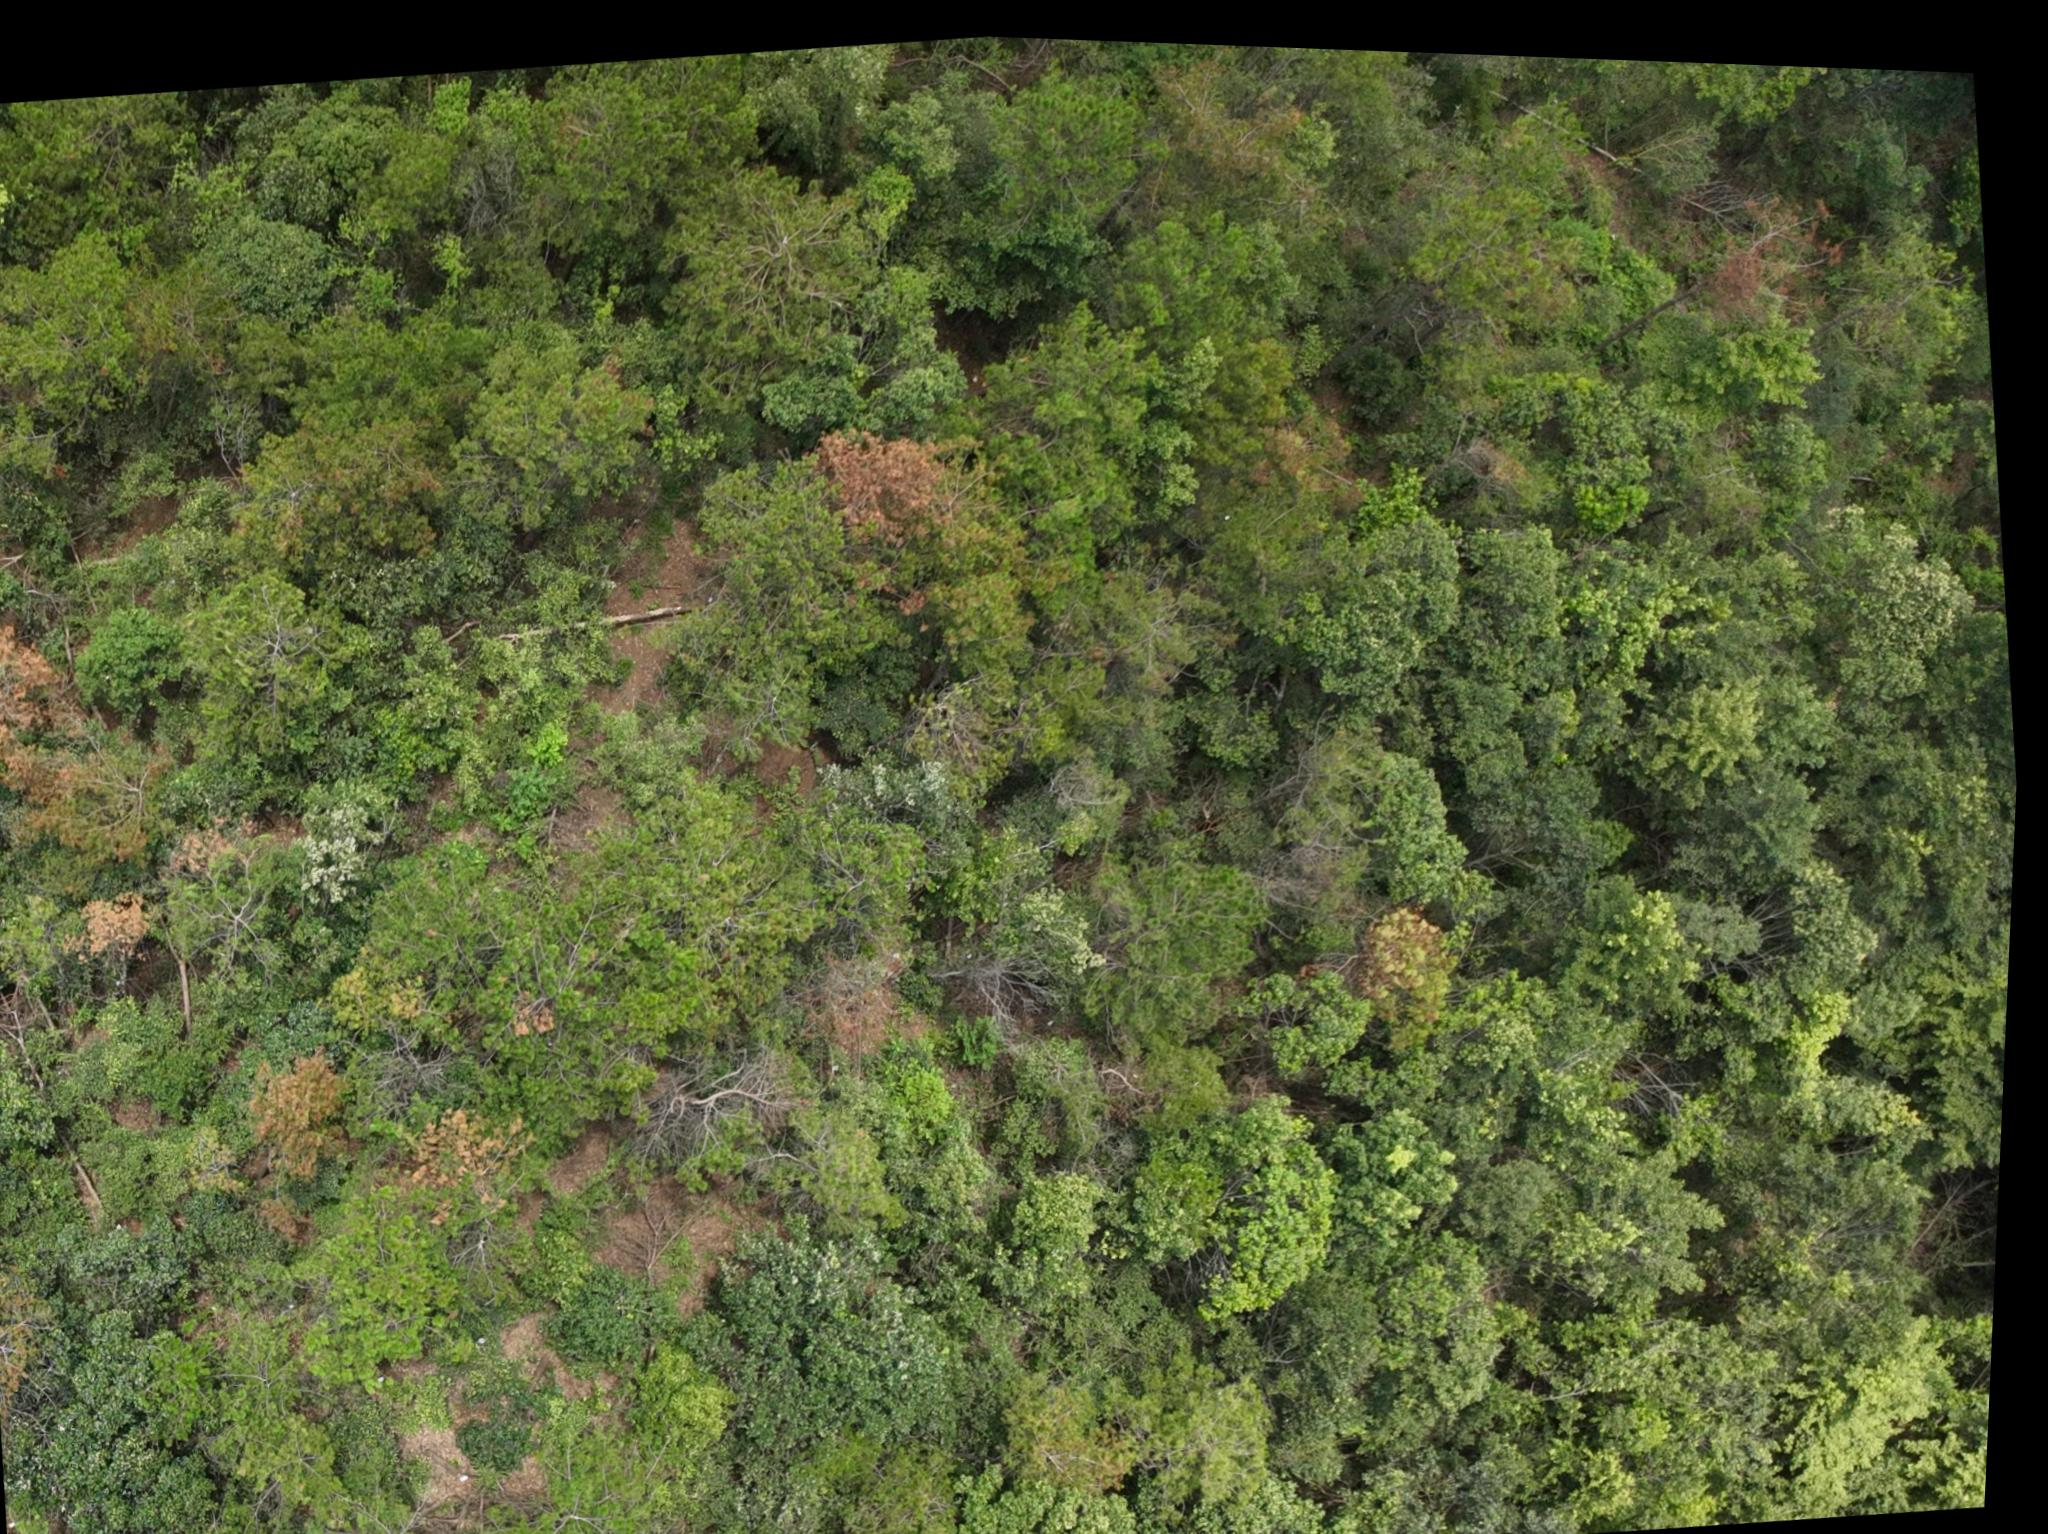heavy: (1674, 168, 1848, 314), (809, 408, 965, 564), (242, 1047, 364, 1207), (0, 607, 79, 806), (413, 1094, 551, 1207), (809, 944, 930, 1055), (71, 885, 161, 967), (172, 809, 267, 875)
light: (232, 409, 453, 578), (1345, 889, 1468, 1039), (543, 342, 672, 451), (931, 561, 1041, 664), (2, 1273, 69, 1408), (53, 794, 164, 865)
